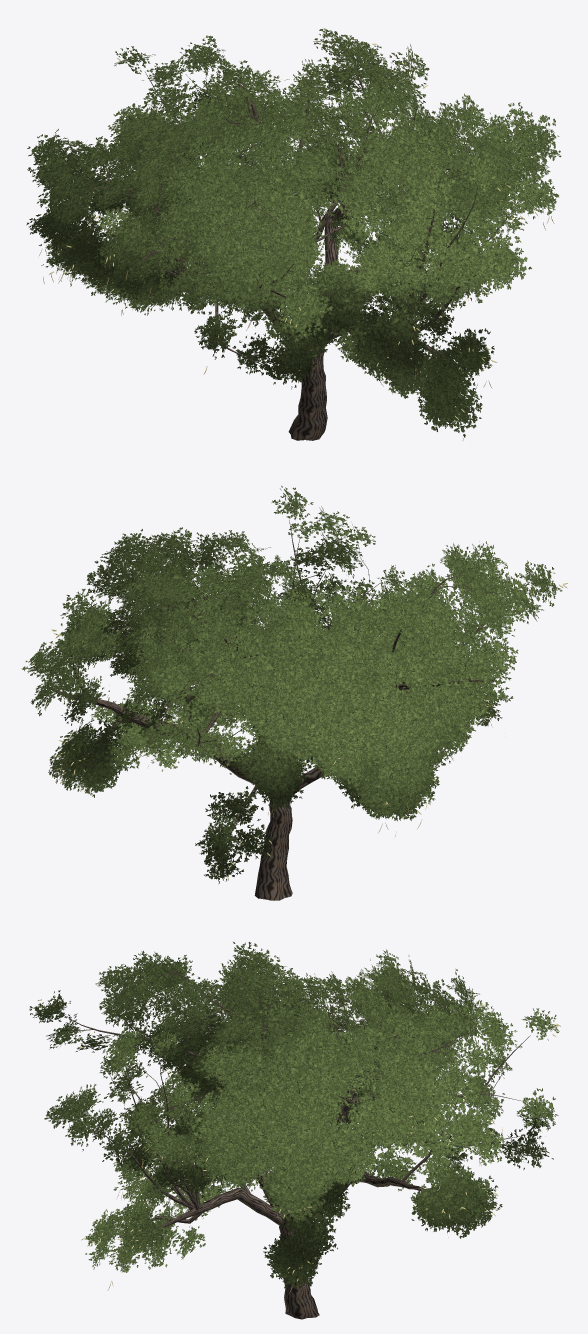
The model's file is adult-b.lod0.glb.
3 renders of one model, top to bottom at view 1: azimuth 30°, elevation 25°; view 2: azimuth 150°, elevation 25°; view 3: azimuth 270°, elevation 25°, orthographic. The views are drawn at different scales.
Parts seen in each view (by area): view 1: foliage, bark; view 2: foliage, bark; view 3: foliage, bark.
Boxes of the visible parts, left/top/right/bottom form: foliage: left=26, top=28, right=561, bottom=437; bark: left=63, top=51, right=520, bottom=440; foliage: left=22, top=485, right=562, bottom=883; bark: left=49, top=520, right=521, bottom=900; foliage: left=29, top=942, right=559, bottom=1288; bark: left=64, top=968, right=530, bottom=1319.
Bounding box in the file's own units: 10.48 × 7.5 × 11.91.
5 materials, 3 textured.
